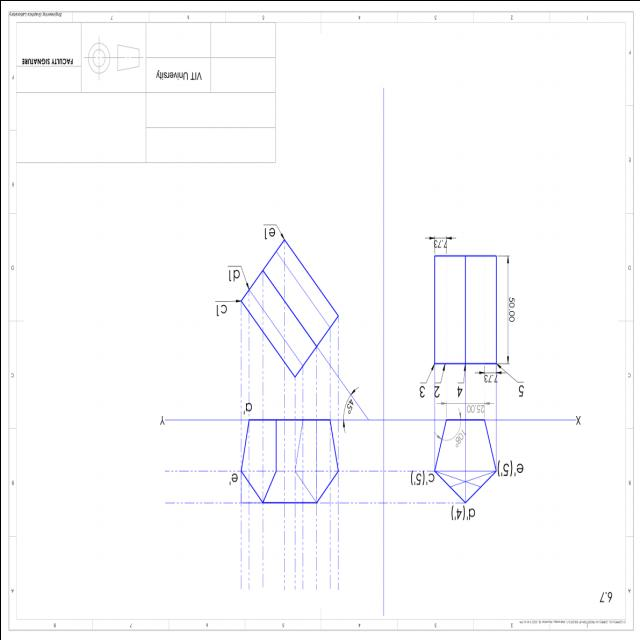Drawings: (188, 206, 572, 539)
